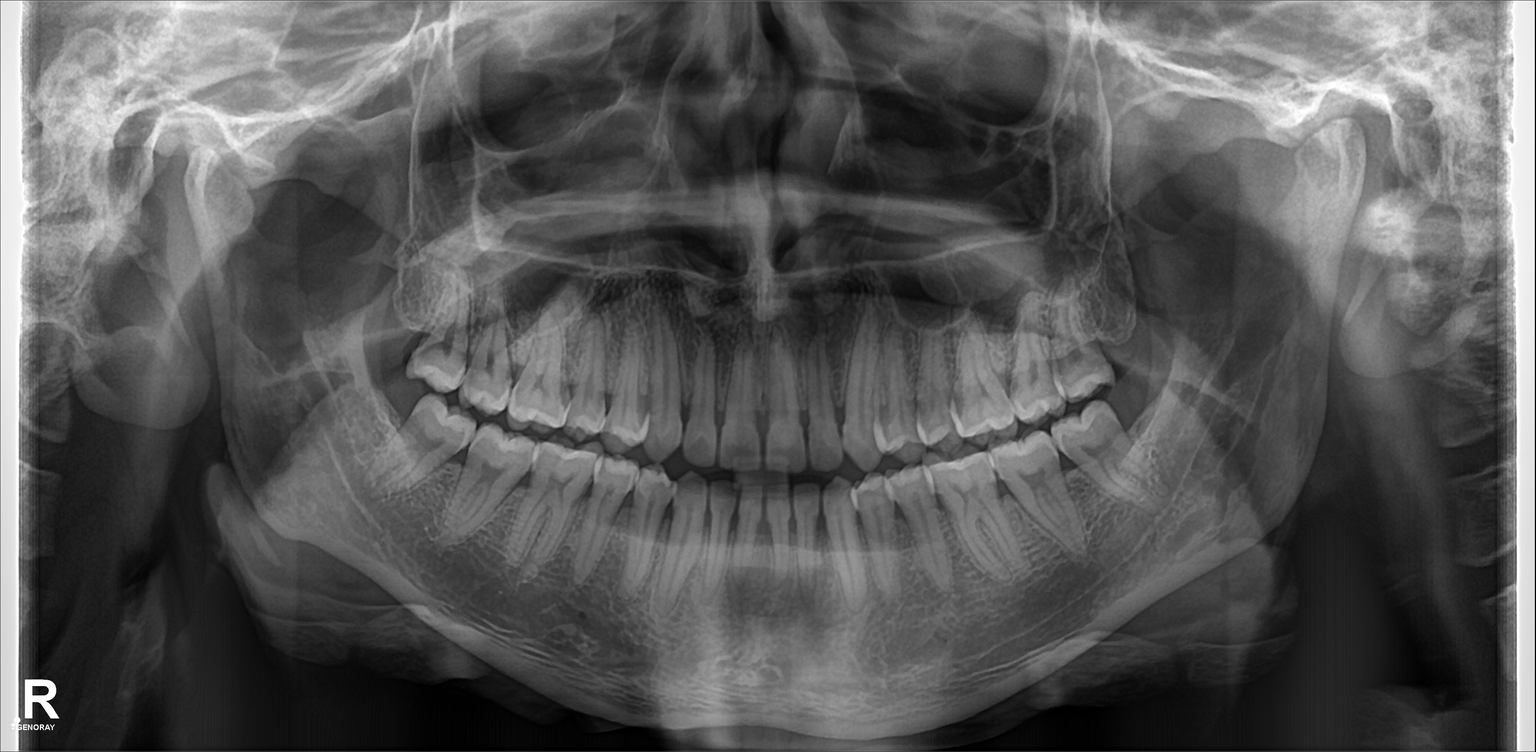Missing Tooth: (382, 294, 419, 375)
